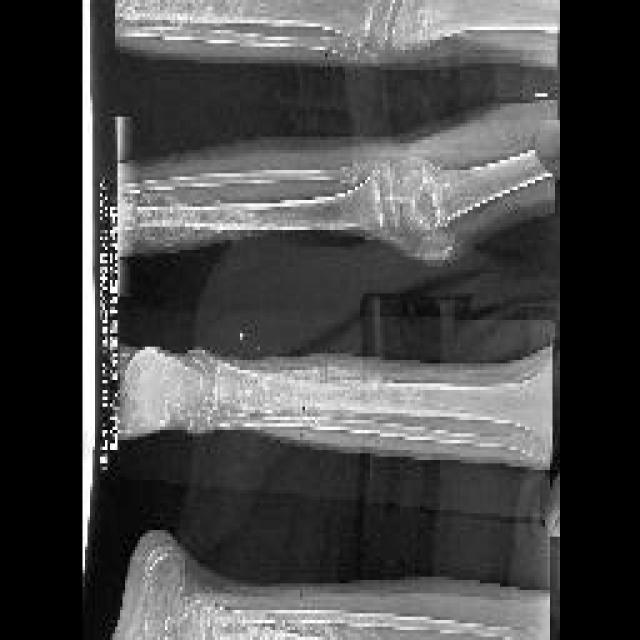bone-cancer: (209, 368, 378, 427), (119, 189, 245, 248), (225, 608, 400, 640), (115, 1, 260, 26)
